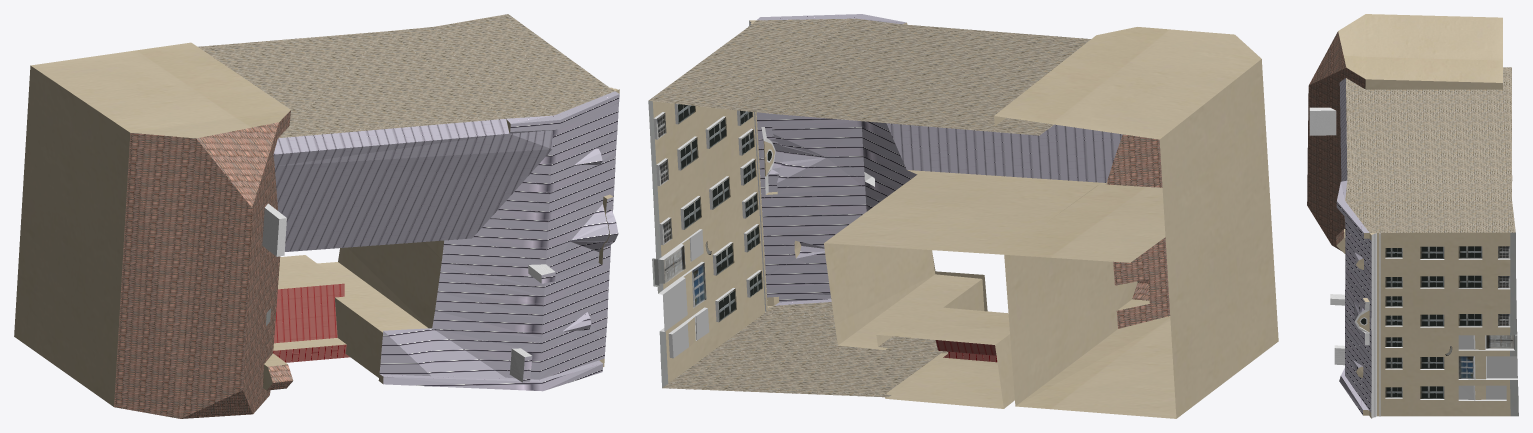
The model's file is Ryytli14_res.obj.
3 views of the same model, side by side, from view 1: azimuth 30°, elevation 25°; view 2: azimuth 150°, elevation 25°; view 3: azimuth 270°, elevation 25° (orthographic). The views are drawn at different scales.
Parts seen in each view (by area): view 1: Ryytli14; view 2: Ryytli14; view 3: Ryytli14.
Part boxes in pixels (left/top/right/bottom): Ryytli14: left=14, top=14, right=619, bottom=418; Ryytli14: left=648, top=14, right=1278, bottom=418; Ryytli14: left=1307, top=14, right=1518, bottom=418.
Size of the model in its own units: 37.87 by 25.08 by 19.72.
